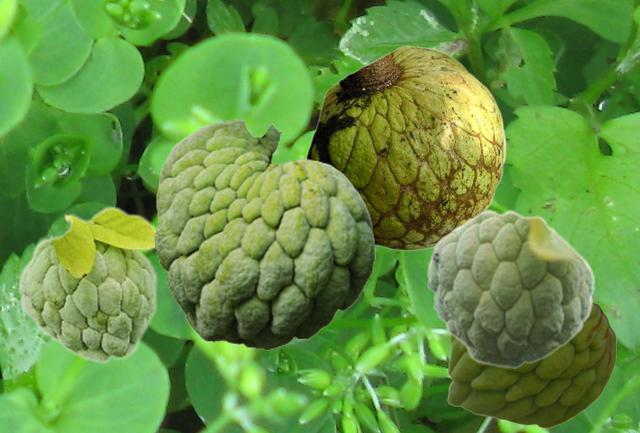atis: (154, 118, 374, 349), (305, 45, 505, 250), (426, 209, 595, 367), (17, 205, 159, 363), (447, 295, 615, 427)
